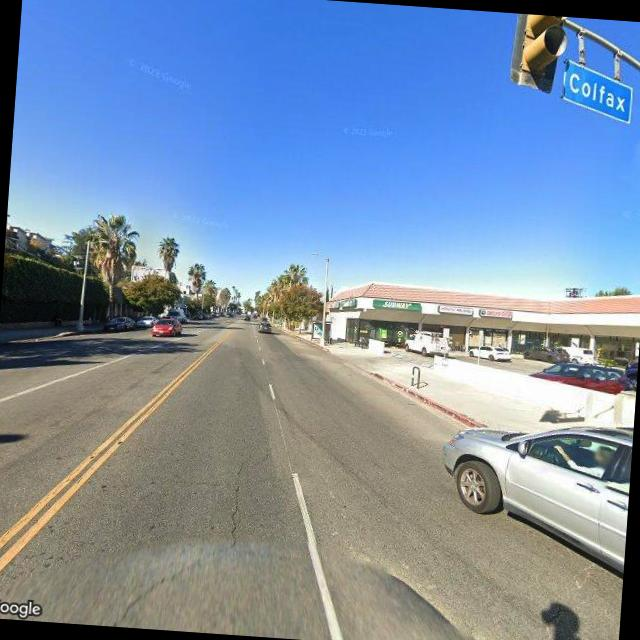pothole: (218, 446, 256, 562)
